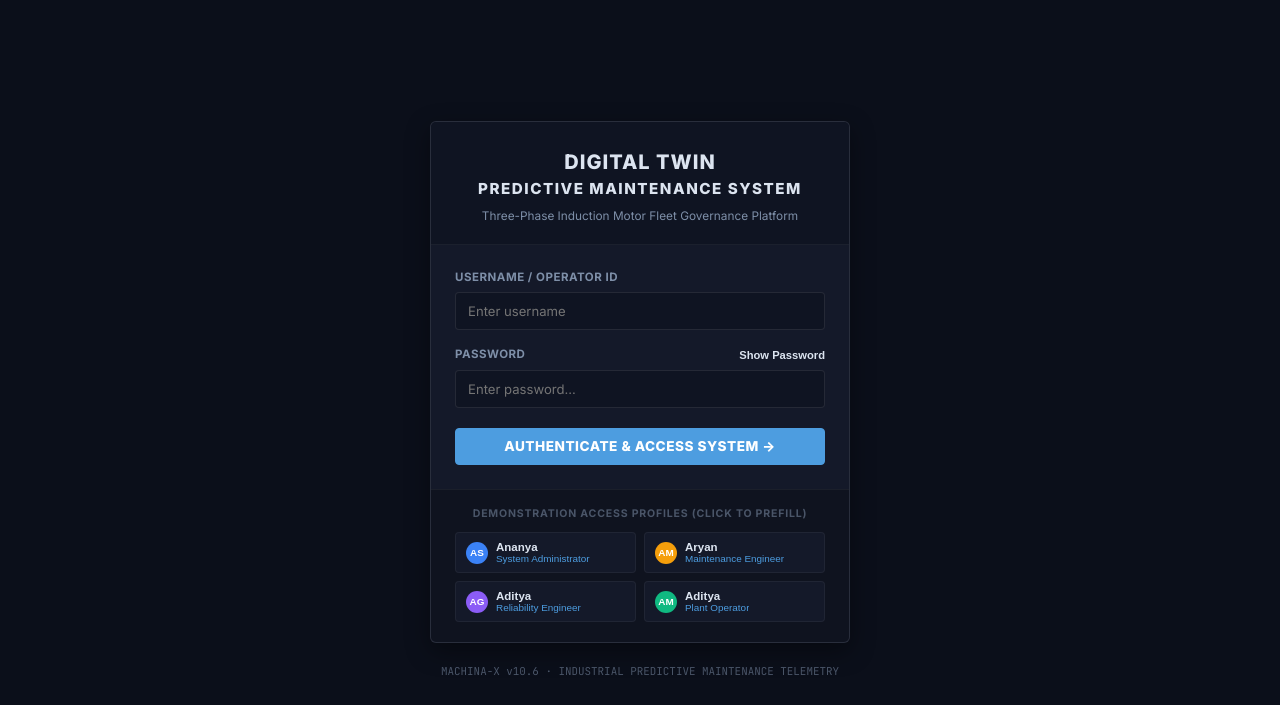
Scenario: Phase 10.6 — Login Authentication & Role-Based Access Control › 2. Authentication for All Four Demo Users › authenticates Aryan Mishra (Maintenance Engineer) and displays Maintenance Control Center
# Click Aryan quickfill
Click the button "AM Aryan Maintenance Engineer": click(734, 553) [644,532,825,573]
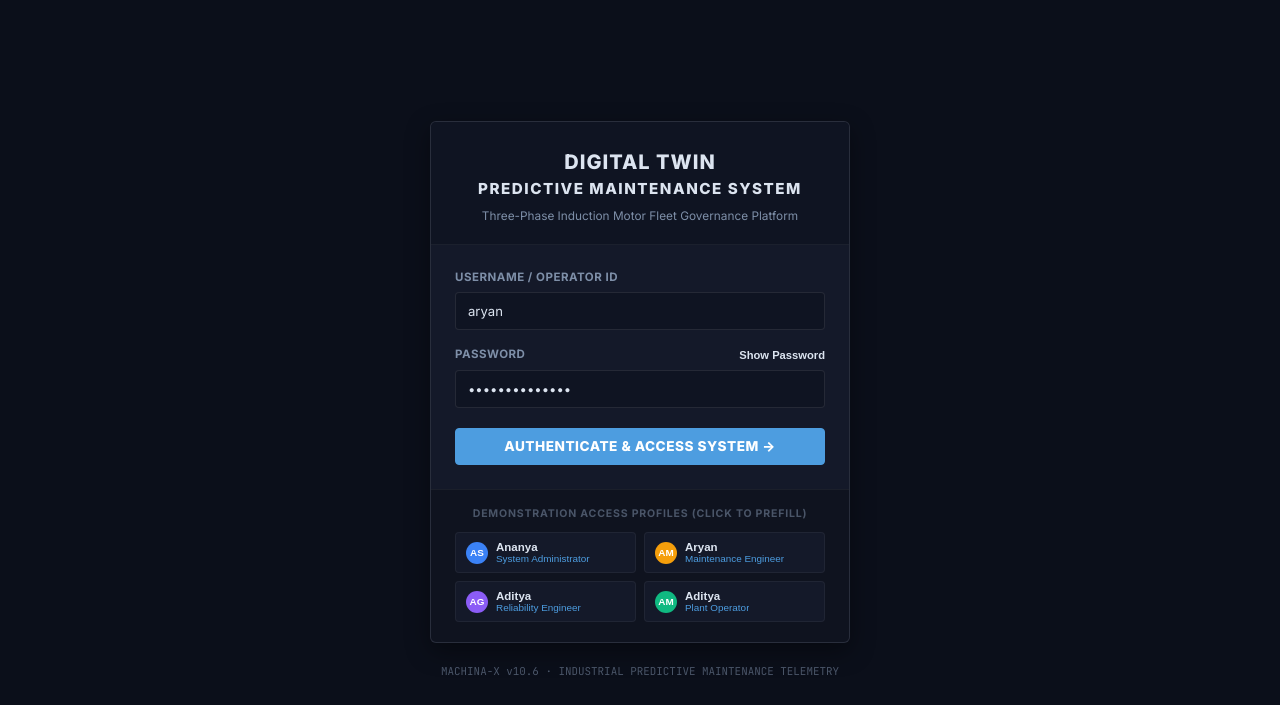
Click the button "AUTHENTICATE & ACCESS SYSTEM →": click(640, 446) [455,428,825,465]
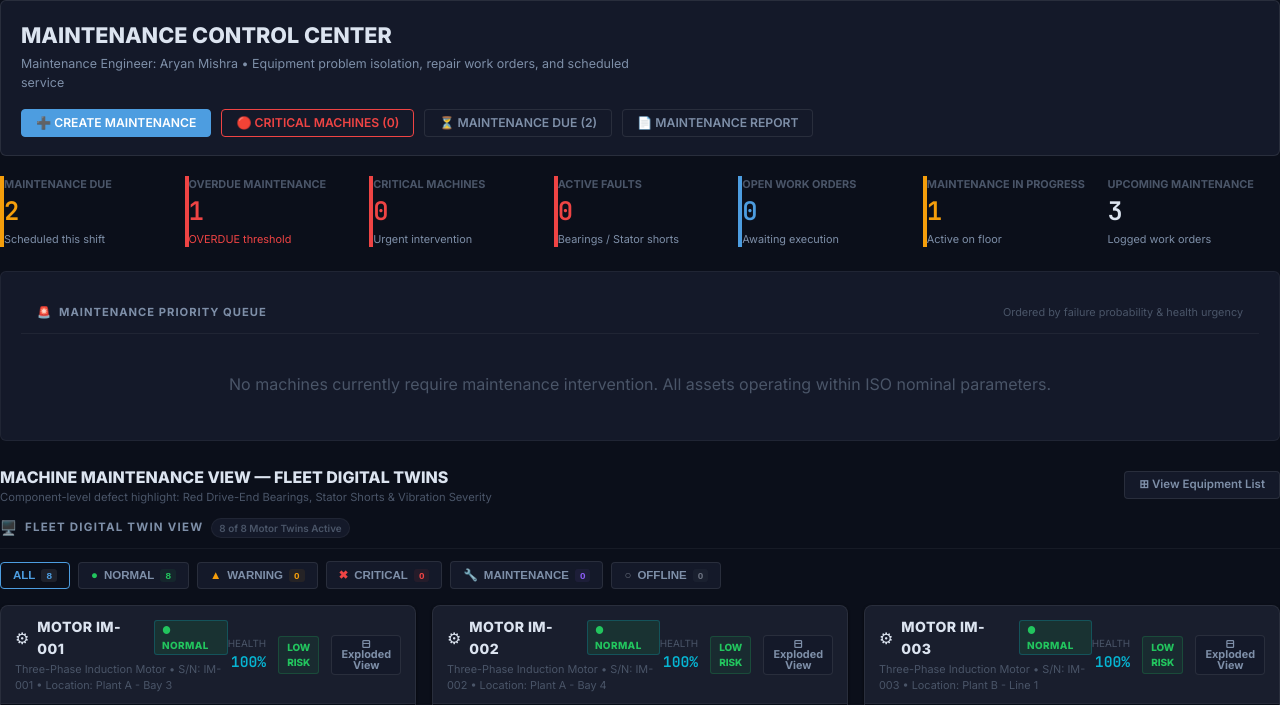
Expected: the heading "MAINTENANCE CONTROL CENTER" is shown, [21,22,392,48]
Expected: the text "🚨 MAINTENANCE PRIORITY QUEUE" is shown, [37,304,267,321]
